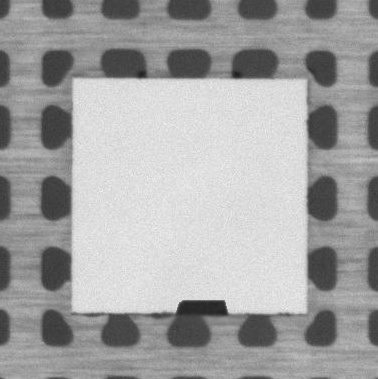DIE_BROKEN: (172, 296, 231, 317)
